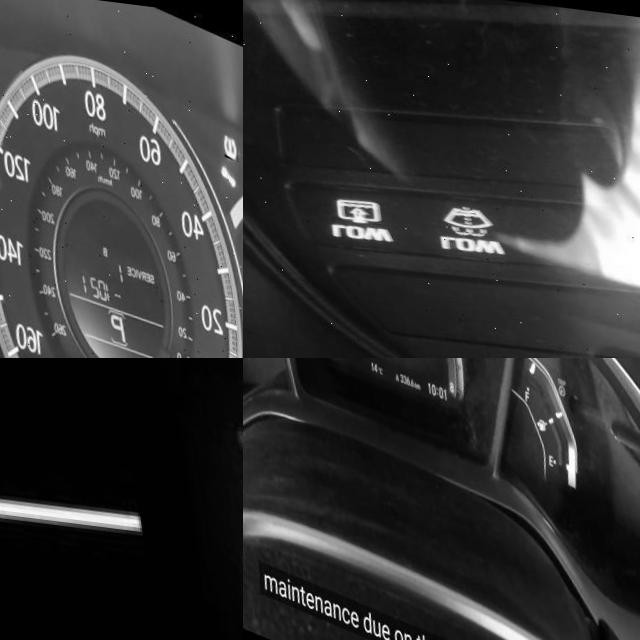Seat Belt: (214, 400, 243, 607)
Washer Fluid: (434, 193, 490, 231)
